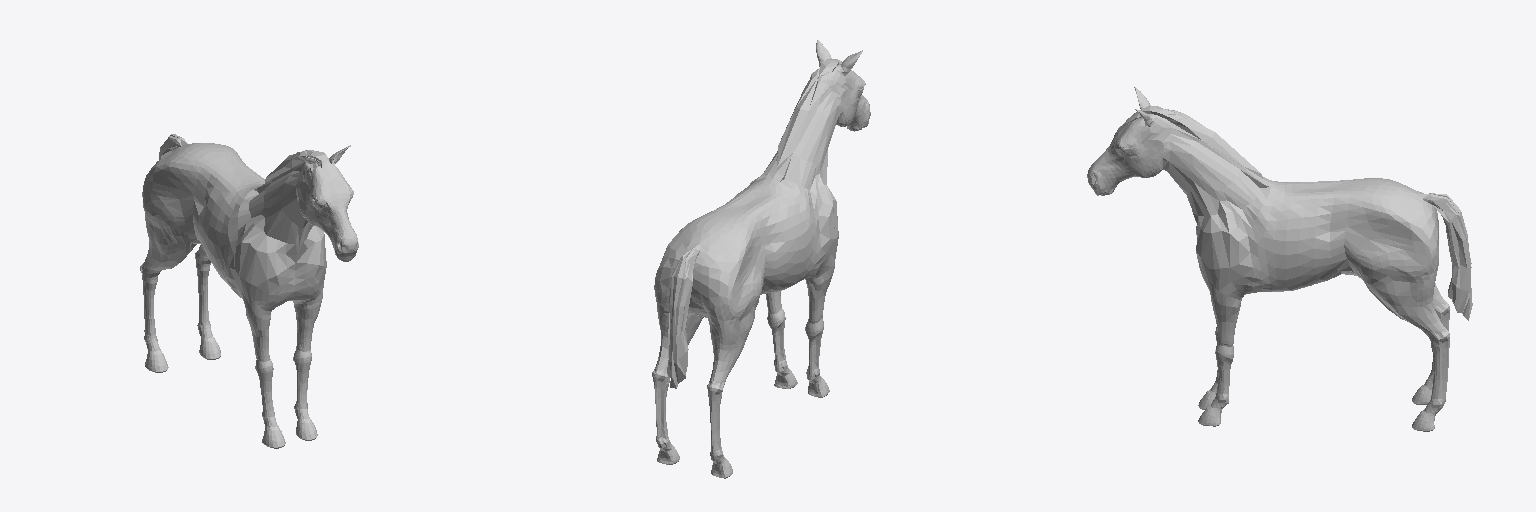
The model's file is HRS_QTR.OBJ.
3 renders of one model, left to right at view 1: azimuth 30°, elevation 25°; view 2: azimuth 150°, elevation 25°; view 3: azimuth 270°, elevation 25°, orthographic.
Visible parts, largest first — view 1: qhrs_body; view 2: qhrs_body; view 3: qhrs_body.
Boxes of the visible parts, box(x1,y1,x2,y2) form: qhrs_body: box(140, 134, 358, 448); qhrs_body: box(652, 40, 870, 478); qhrs_body: box(1087, 87, 1472, 431).
Size of the model in its own units: 0.5651 by 2.04 by 2.25.